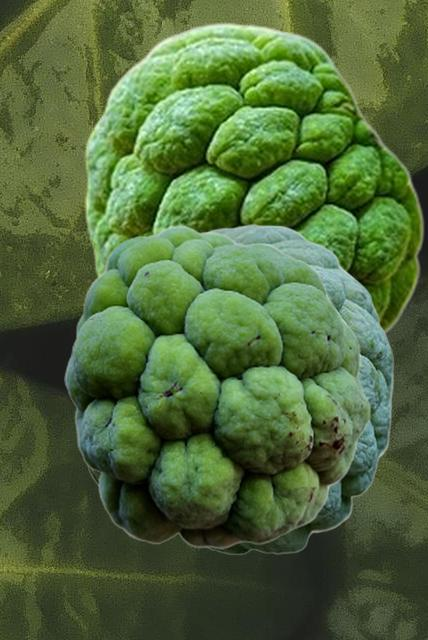atis: (84, 21, 424, 333), (85, 224, 393, 554), (64, 224, 370, 549)
